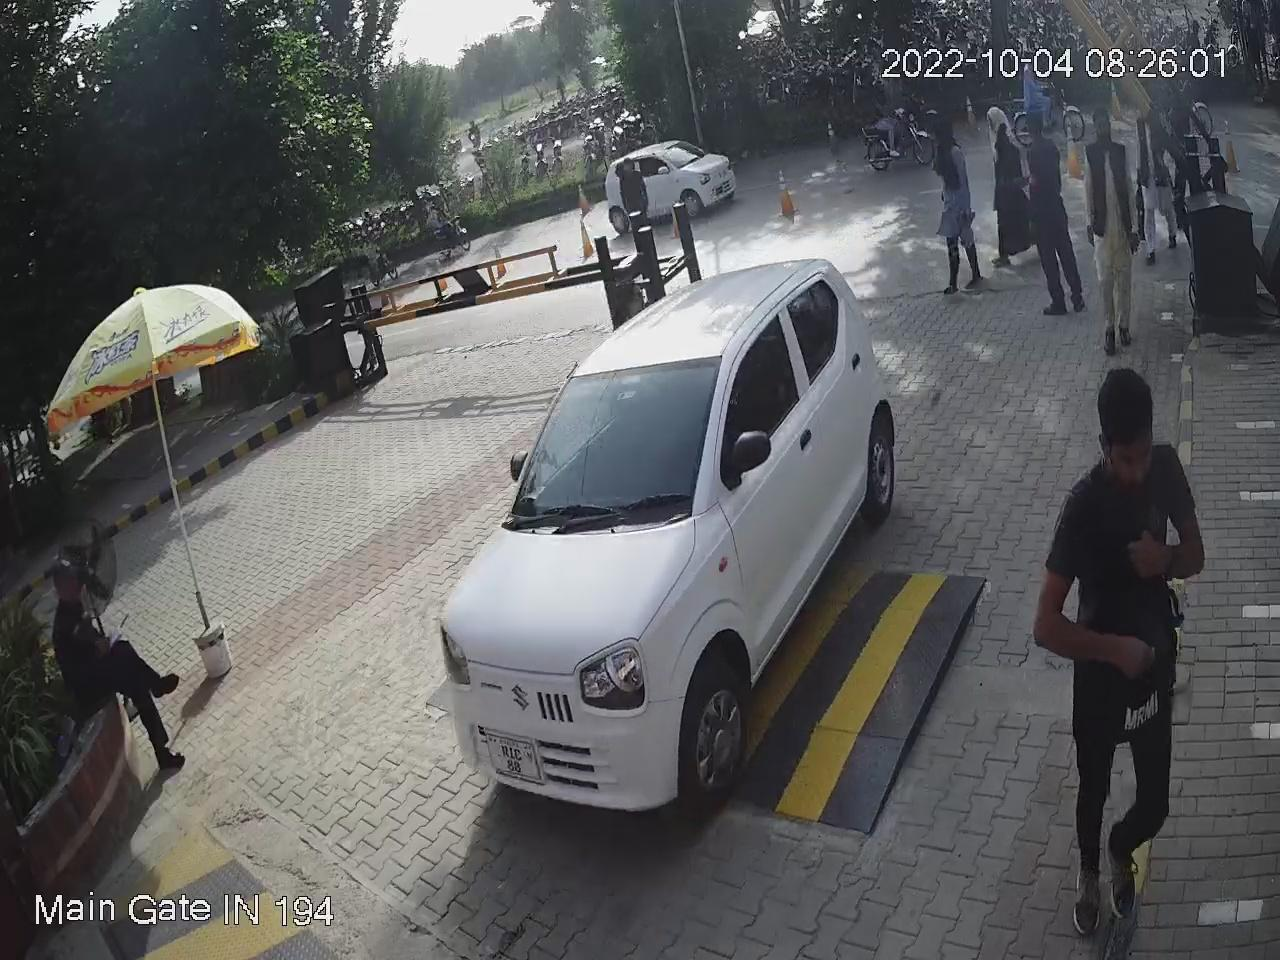windshield: (501, 348, 726, 541)
